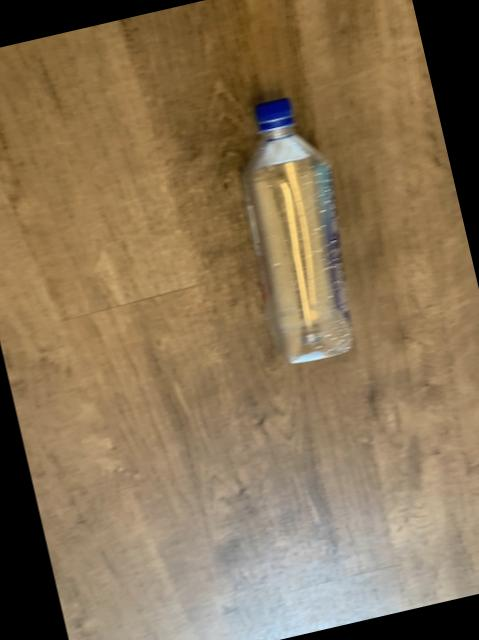plastic: (240, 100, 350, 365)
